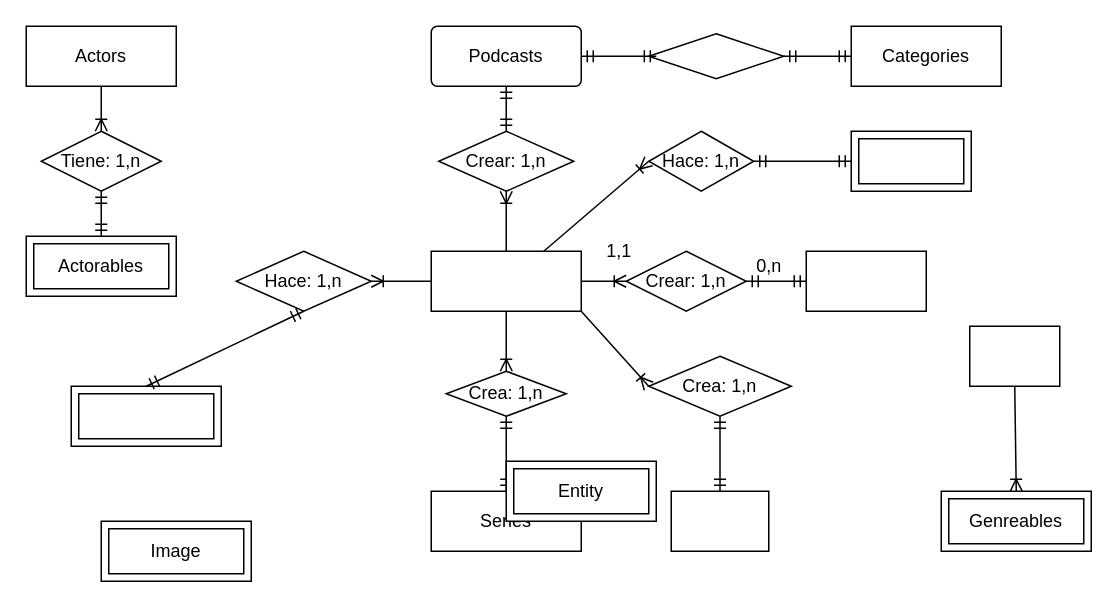
Some shapes in this 1118 by 608 pixel diagram are drawn without their labels. Each missing label, with the box of its shape:
Animes: (670, 490, 769, 551)
Comments: (850, 130, 971, 191)
Genres: (968, 325, 1060, 386)
Likeables: (70, 385, 221, 446)
movies: (805, 250, 926, 311)
Tiene: 1,1: (647, 32, 784, 79)
Users: (430, 250, 581, 311)
